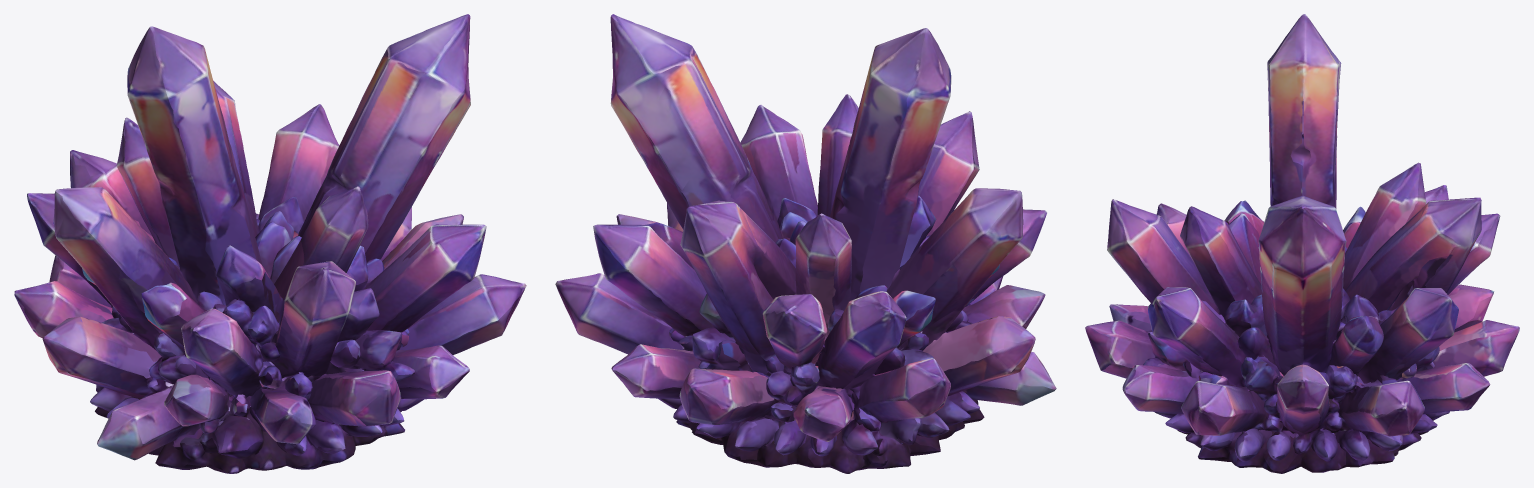
The model's file is crystal3.glb.
3 renders of one model, left to right at view 1: azimuth 30°, elevation 25°; view 2: azimuth 150°, elevation 25°; view 3: azimuth 270°, elevation 25°, orthographic. The views are drawn at different scales.
Parts seen in each view (by area): view 1: tmpes30e1gm.ply_Material_0_0; view 2: tmpes30e1gm.ply_Material_0_0; view 3: tmpes30e1gm.ply_Material_0_0.
Boxes of the visible parts, x1,y1,x2,y2 form: tmpes30e1gm.ply_Material_0_0: (14,14,526,473); tmpes30e1gm.ply_Material_0_0: (555,14,1056,473); tmpes30e1gm.ply_Material_0_0: (1085,14,1519,473).
Size of the model in its own units: 2 by 1.95 by 2.
Materials: 1 (1 with a texture image).
